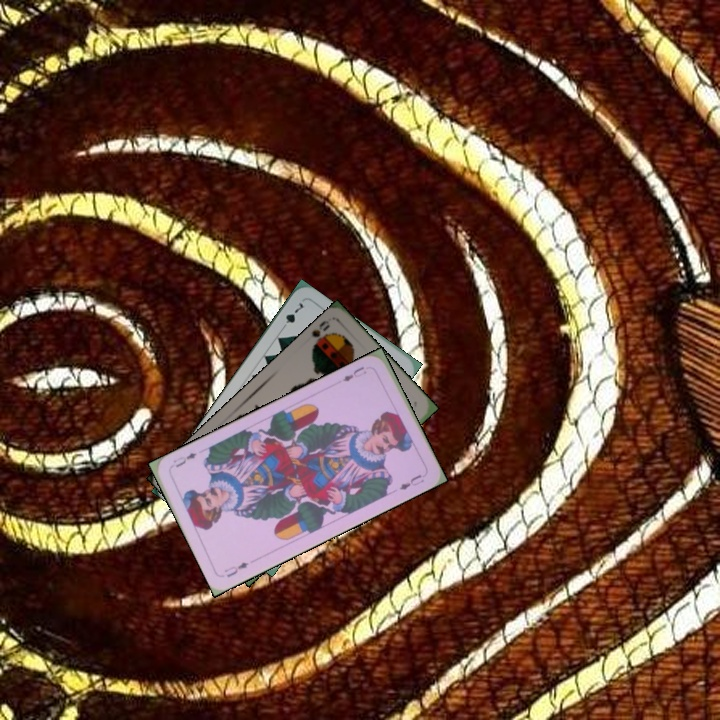EU: (338, 362, 369, 384), (221, 558, 251, 580)
G7: (277, 298, 306, 333)
SO: (307, 316, 336, 353)
